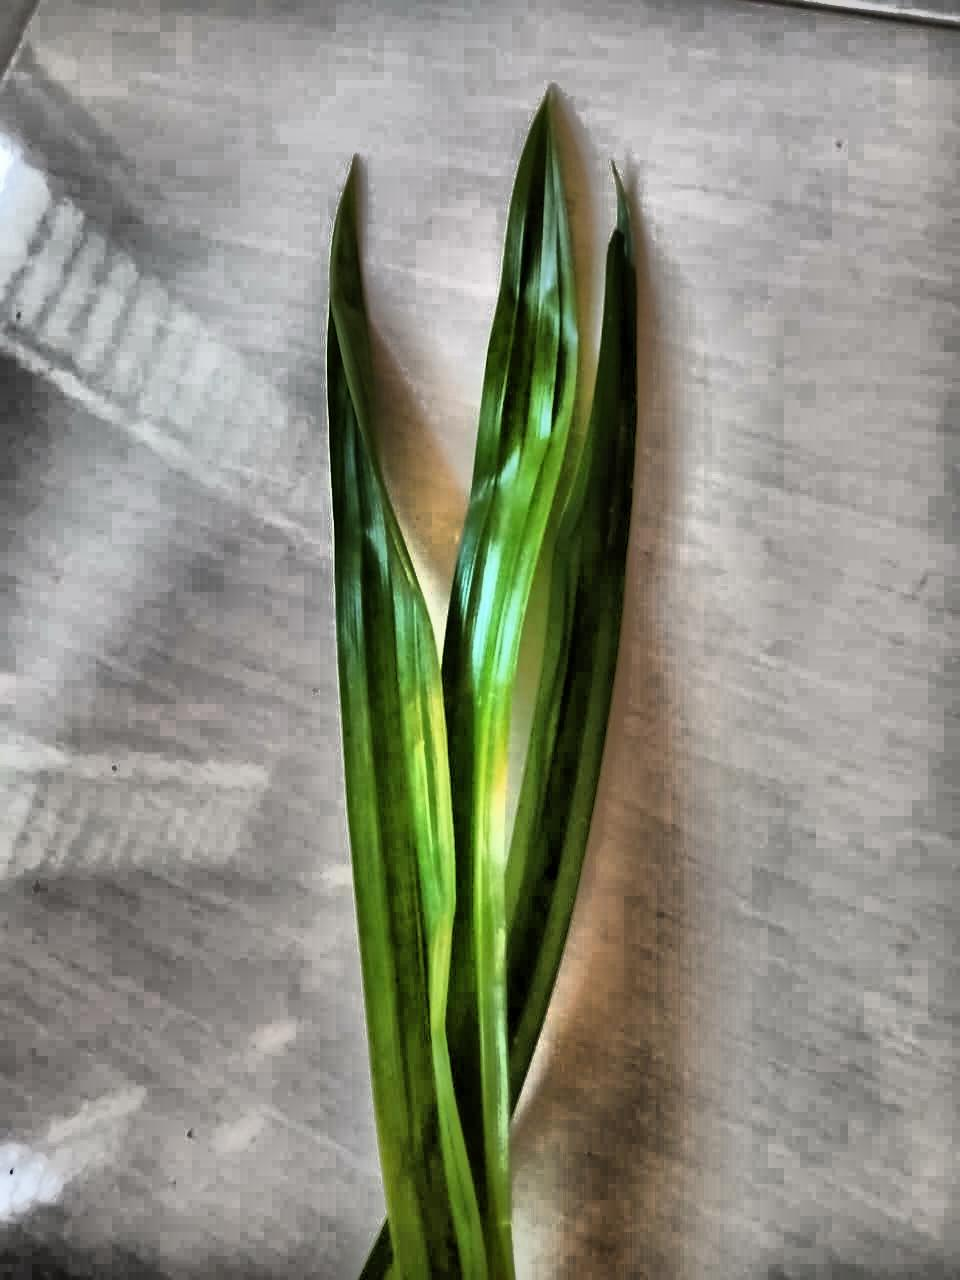daun pandan: (327, 94, 637, 1279)
